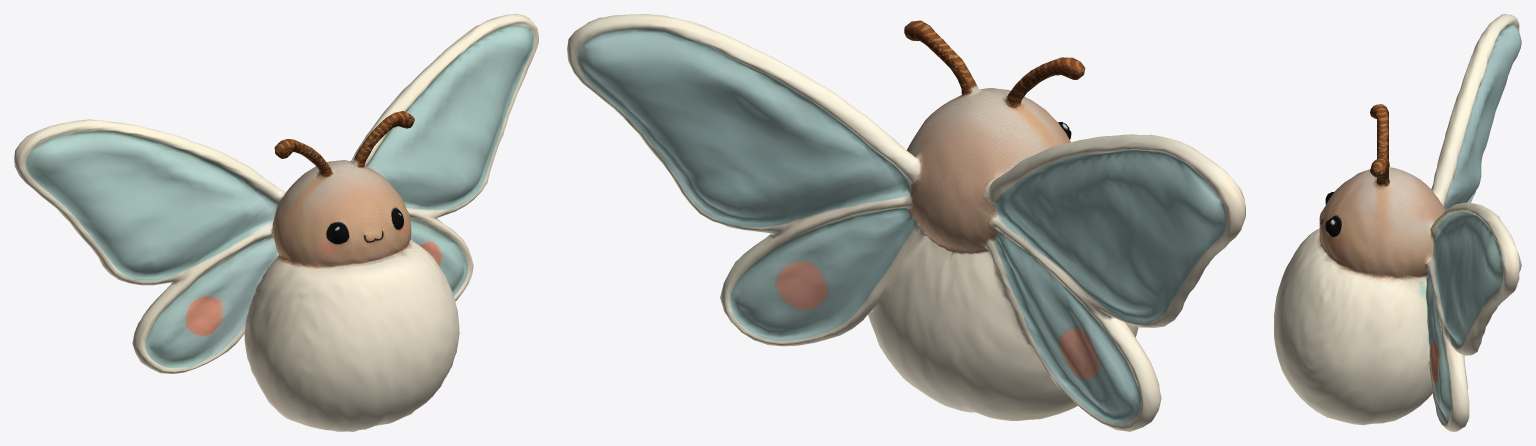
Rendered from moth_small.glb.
3 renders of one model, left to right at view 1: azimuth 30°, elevation 25°; view 2: azimuth 150°, elevation 25°; view 3: azimuth 270°, elevation 25°, orthographic. The views are drawn at different scales.
Size of the model in its own units: 1.91 by 1.04 by 0.8102.
1 material, 1 textured.
